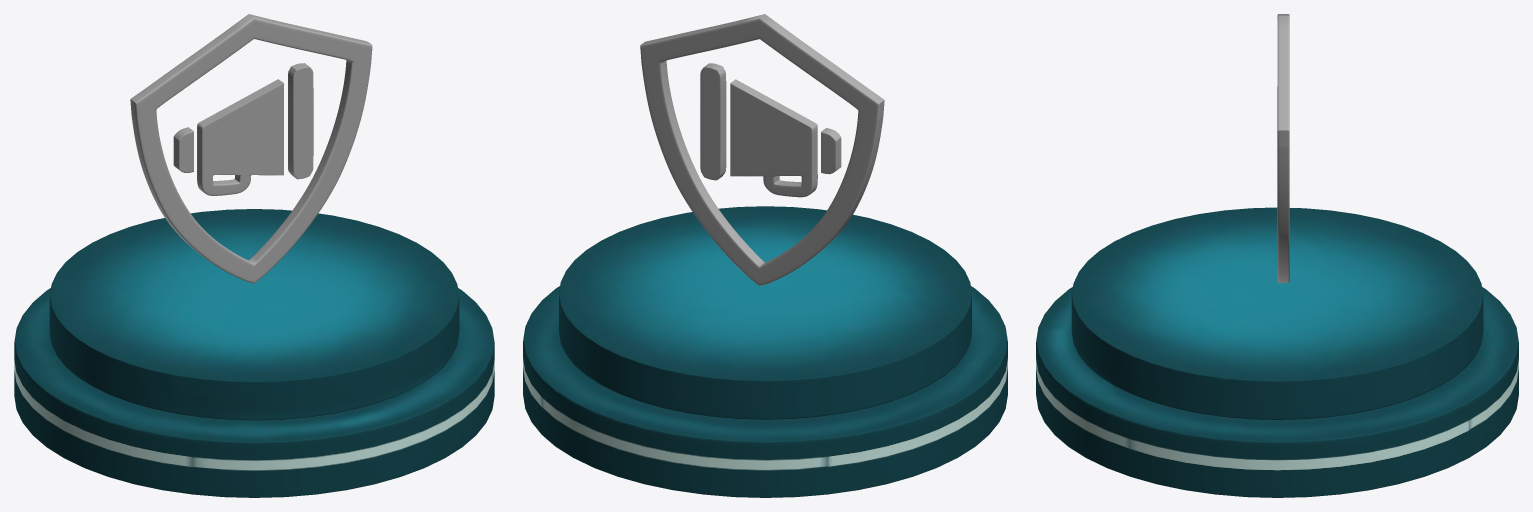
File: Escudo_0000.gltf
3 renders of one model, left to right at view 1: azimuth 30°, elevation 25°; view 2: azimuth 150°, elevation 25°; view 3: azimuth 270°, elevation 25°, orthographic.
Parts seen in each view (by area): view 1: Base, escudo.001, Plane.002, Plane.003, Plane.001; view 2: Base, escudo.001, Plane.002, Plane.003, Plane.001; view 3: Base, escudo.001.
Part boxes in pixels (left/top/right/bottom): Base: left=14, top=209, right=494, bottom=497; escudo.001: left=130, top=14, right=372, bottom=283; Plane.002: left=197, top=79, right=283, bottom=195; Plane.003: left=288, top=63, right=313, bottom=179; Plane.001: left=173, top=127, right=193, bottom=172; Base: left=523, top=206, right=1007, bottom=497; escudo.001: left=640, top=14, right=884, bottom=285; Plane.002: left=730, top=79, right=817, bottom=197; Plane.003: left=700, top=63, right=726, bottom=180; Plane.001: left=821, top=128, right=841, bottom=174; Base: left=1036, top=207, right=1518, bottom=497; escudo.001: left=1277, top=14, right=1289, bottom=282.
Size of the model in its own units: 2.91 by 2.53 by 2.91.
Materials: 3 (1 with a texture image).
